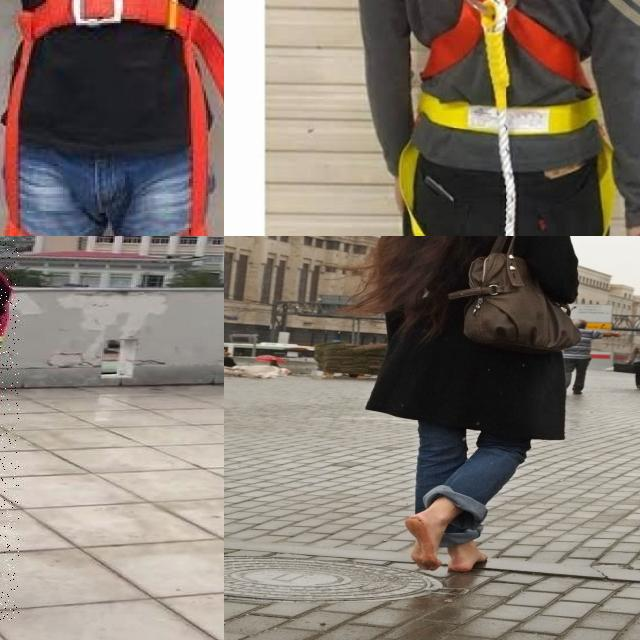Barefoots: (405, 512, 442, 570), (447, 548, 488, 572)
Harness: (390, 0, 618, 236), (0, 0, 216, 236)
